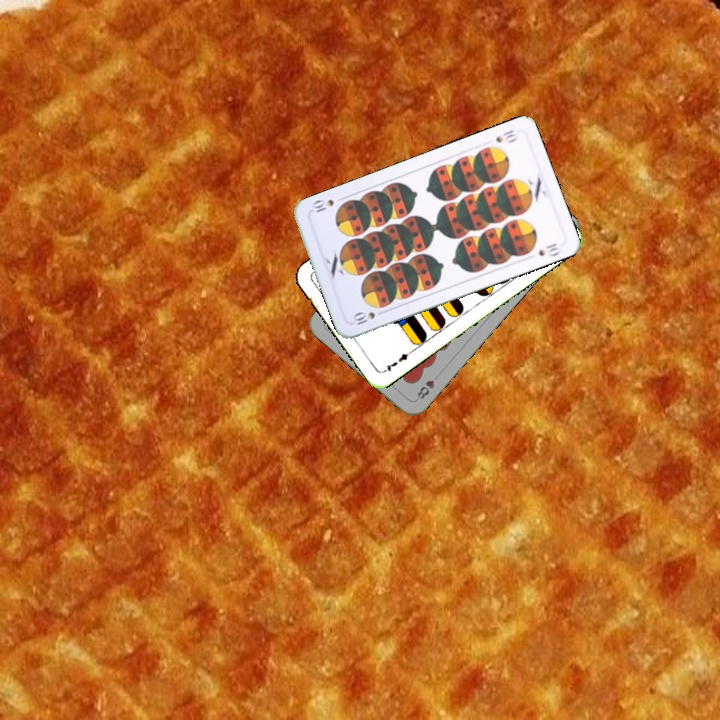E7: (379, 347, 415, 375)
H8: (413, 369, 443, 402)
S10: (348, 306, 388, 328), (491, 125, 520, 146)
